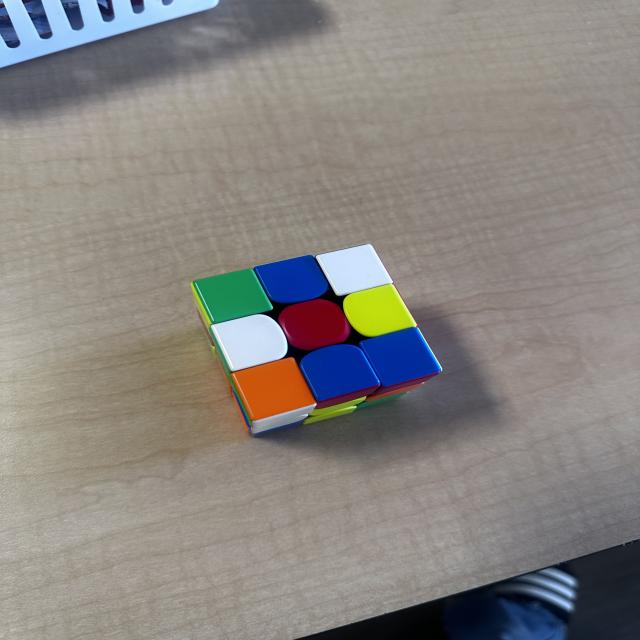sticker: (305, 353, 375, 395), (240, 368, 308, 408), (366, 338, 439, 375), (195, 276, 260, 316), (282, 306, 346, 344), (260, 264, 326, 298), (322, 250, 387, 284), (215, 323, 279, 357), (349, 293, 400, 328)
